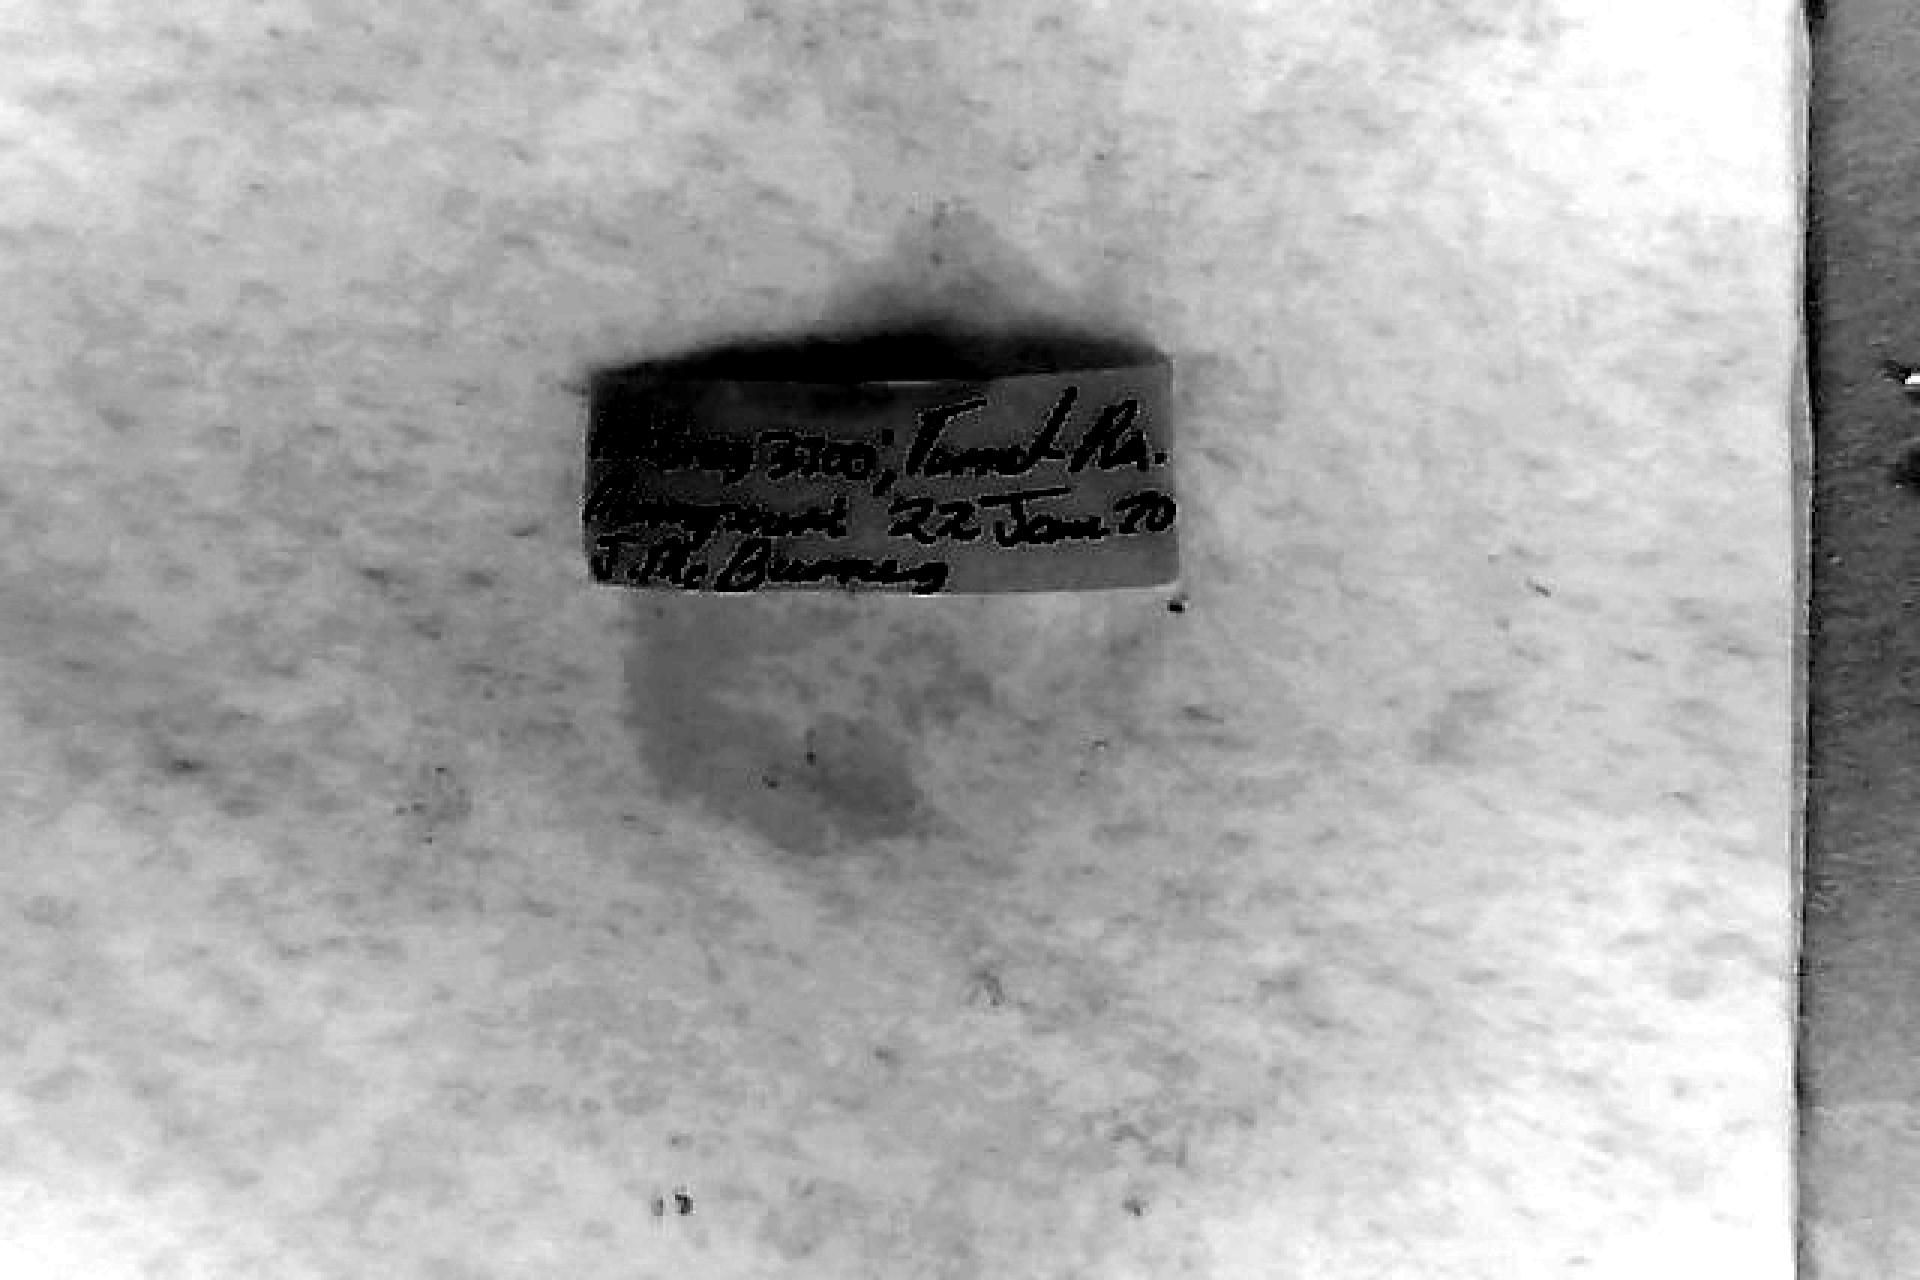hand_label: (585, 343, 1178, 593)
